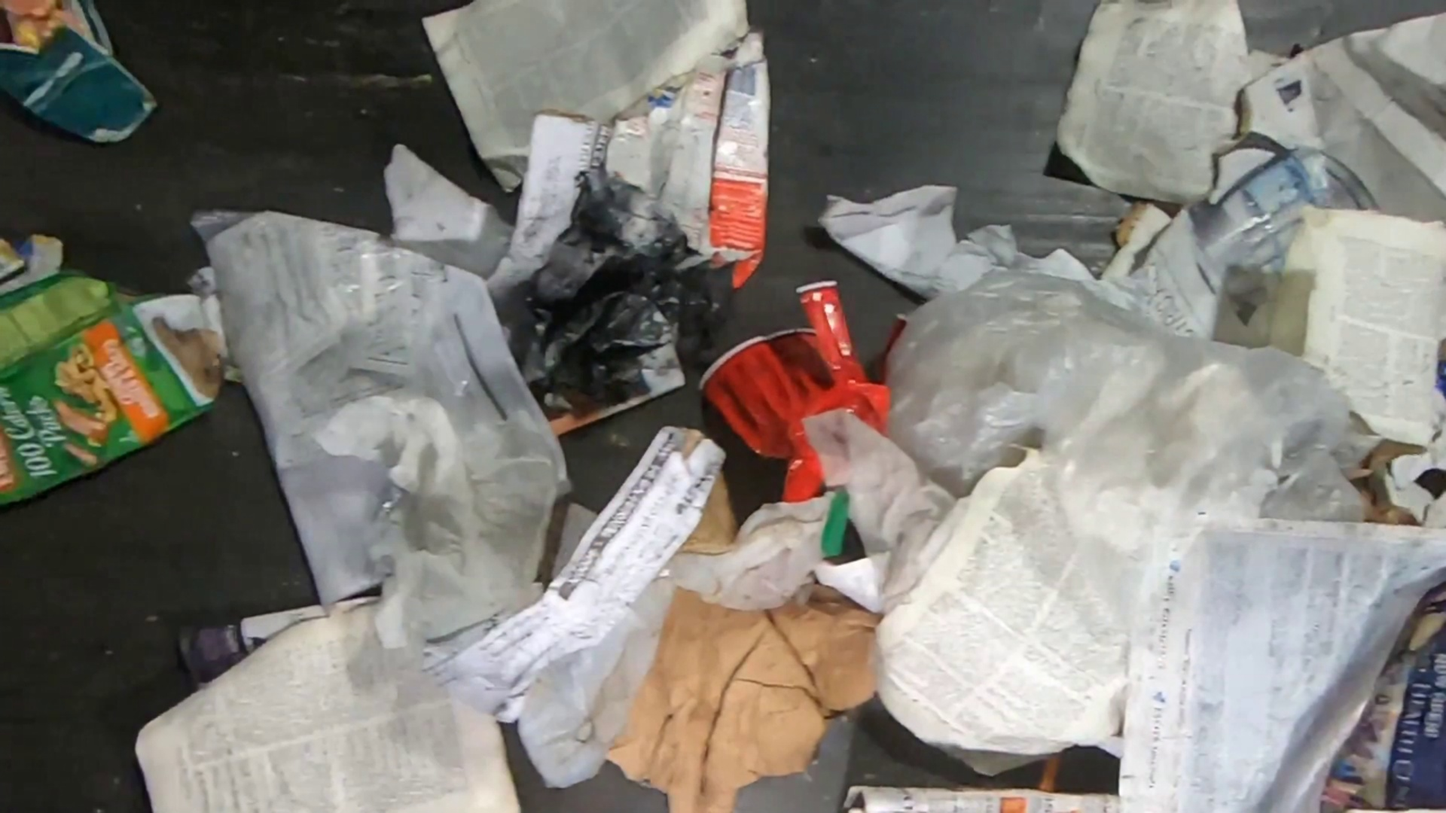cardboard: (1098, 12, 1446, 348), (0, 265, 220, 516), (575, 28, 771, 295)
plastic: (884, 273, 1382, 623), (184, 206, 539, 607), (514, 174, 742, 423), (697, 278, 889, 504)
